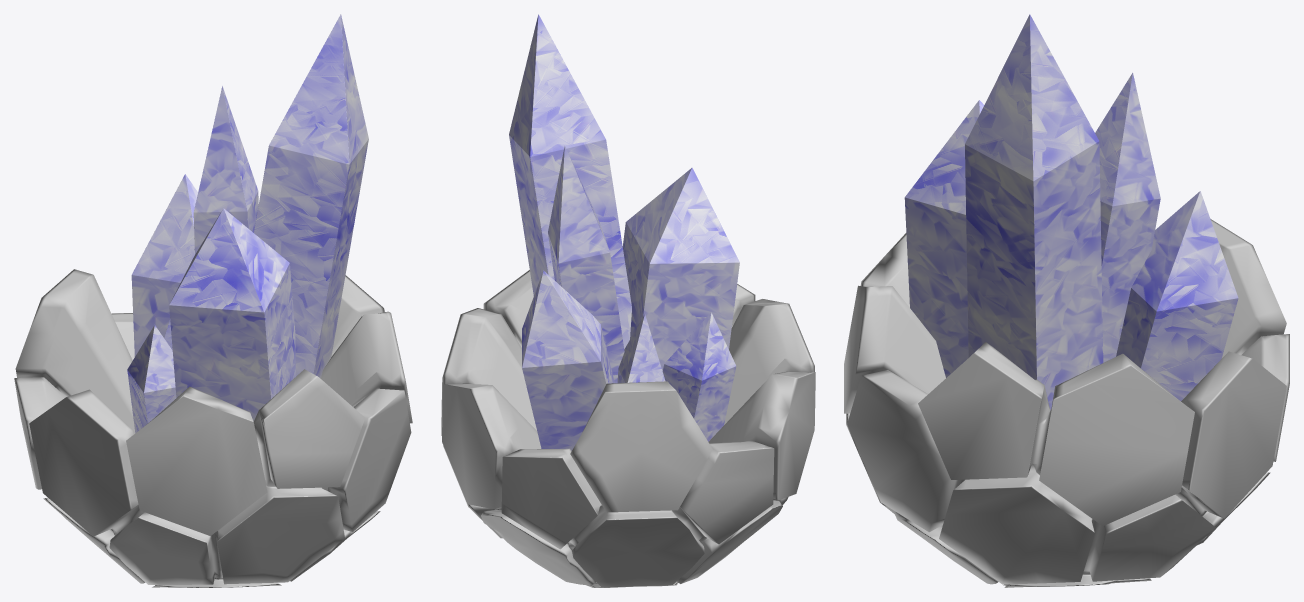
Rendered from crystal_planet.fbx.
3 views of the same model, side by side, from view 1: azimuth 30°, elevation 25°; view 2: azimuth 150°, elevation 25°; view 3: azimuth 270°, elevation 25° (orthographic). The views are drawn at different scales.
Visible parts, largest first — view 1: pSolid3; view 2: pSolid3; view 3: pSolid3.
Boxes of the visible parts, x1,y1,x2,y2 form: pSolid3: (14, 14, 412, 587); pSolid3: (441, 14, 815, 587); pSolid3: (844, 14, 1289, 587).
Bounding box in the file's own units: 1.96 × 3.01 × 1.94.
